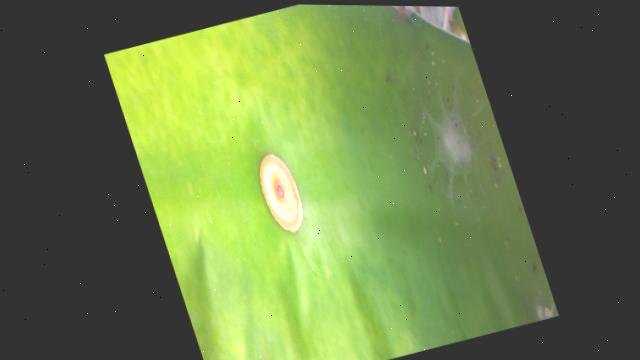stemcanker: (259, 150, 308, 236)
